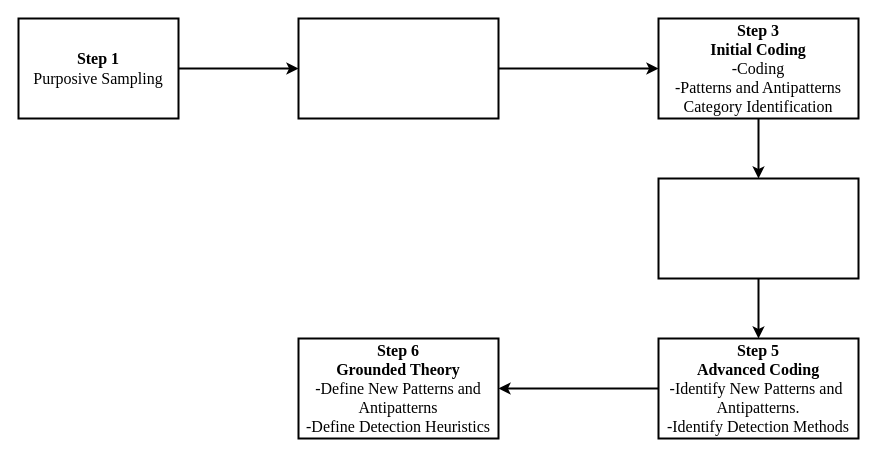
The diagram is 876 pixels wide and 456 high, and some of its shapes have lost their labels. Each missing label, with the centre of its shape:
Step 2 Data Collection -API Documentations -Survey: pixel 398 68
Step 4 Intermediate Coding -Selecting Core Category -Data Saturation: pixel 758 228
